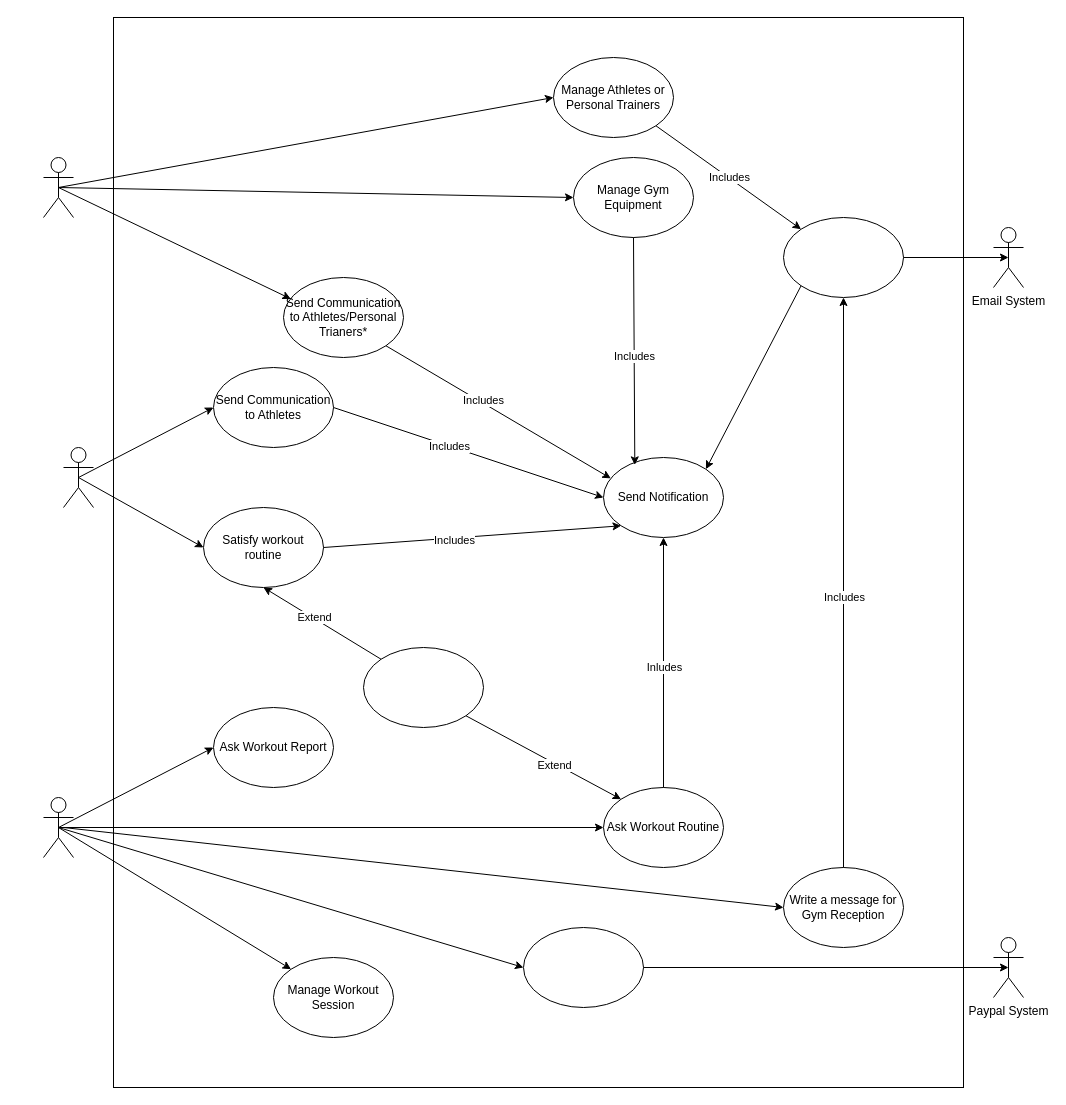
This 1066x1105 diagram has some shape labels left out. Each missing label, with the centre of its shape:
Add a comment: pixel 423 687
Athlete: pixel 58 827
Gym Reception: pixel 58 187
Manage membership: pixel 583 967
Personal Trainer: pixel 78 477
Send an email*: pixel 843 257
